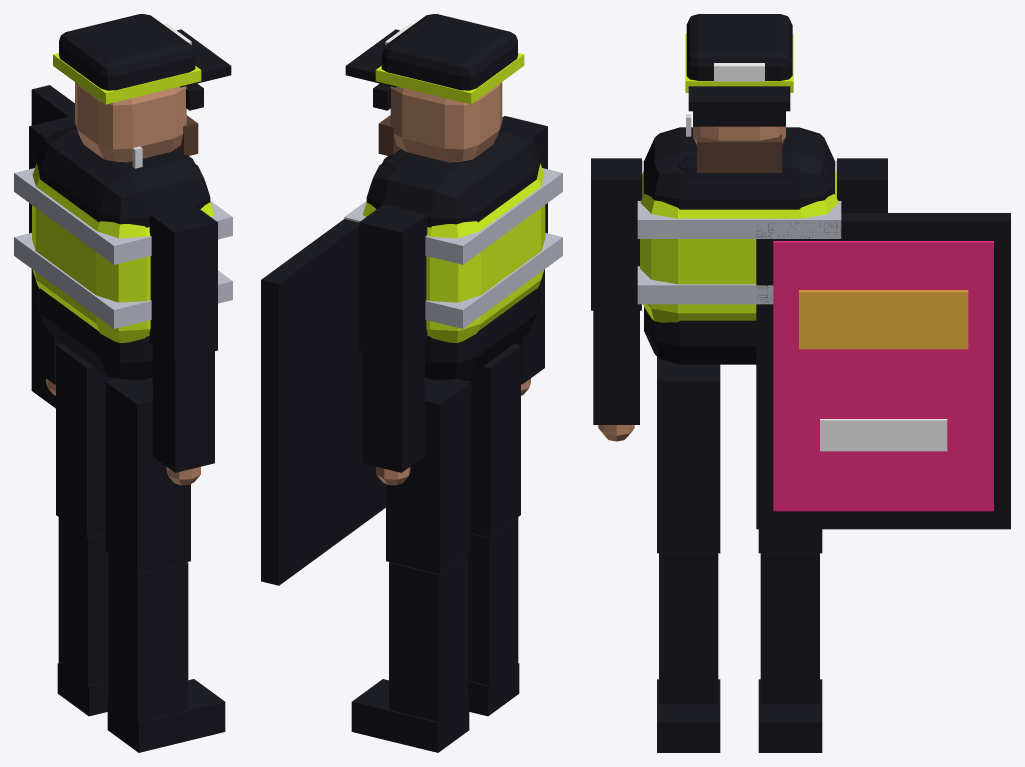
Rendered from agent_kleber_bouclier.glb.
3 renders of one model, left to right at view 1: azimuth 30°, elevation 25°; view 2: azimuth 150°, elevation 25°; view 3: azimuth 270°, elevation 25°, orthographic.
Visible parts, largest first — view 1: p_rbox.2275, p_box.8722, p_box.8723, p_box.8736, p_box.8725, p_rbox.2276, p_box.8726, p_rbox.2278, p_box.8737, p_rbox.2277, p_box.8724, p_box.8729 (+10 smaller); view 2: p_box.8740, p_rbox.2275, p_box.8725, p_box.8726, p_box.8738, p_box.8722, p_rbox.2276, p_box.8723, p_rbox.2278, p_box.8739, p_rbox.2277, p_box.8727 (+8 smaller); view 3: p_box.8741, p_box.8740, p_rbox.2275, p_box.8722, p_box.8742, p_rbox.2276, p_box.8726, p_box.8723, p_box.8736, p_rbox.2278, p_box.8737, p_box.8729 (+13 smaller).
Boxes of the visible parts, box(x1,y1,x2,y2) form: p_rbox.2275: box(36, 126, 210, 380); p_box.8722: box(106, 377, 190, 574); p_box.8723: box(108, 554, 188, 732); p_box.8736: box(149, 204, 217, 360); p_box.8725: box(56, 343, 117, 537); p_rbox.2276: box(32, 164, 214, 342); p_box.8726: box(58, 517, 108, 695); p_rbox.2278: box(59, 14, 195, 90); p_box.8737: box(152, 345, 214, 472); p_rbox.2277: box(75, 82, 186, 162); p_box.8724: box(107, 679, 225, 752); p_box.8729: box(14, 168, 232, 264); p_box.8740: box(261, 219, 385, 585); p_rbox.2275: box(366, 126, 540, 380); p_box.8725: box(386, 378, 471, 574); p_box.8726: box(389, 554, 468, 732); p_box.8738: box(359, 204, 427, 360); p_box.8722: box(459, 343, 520, 537); p_rbox.2276: box(362, 163, 545, 342); p_box.8723: box(468, 517, 518, 695); p_rbox.2278: box(381, 14, 517, 90); p_box.8739: box(362, 345, 424, 472); p_rbox.2277: box(390, 82, 502, 162); p_box.8727: box(351, 679, 469, 752); p_box.8741: box(773, 241, 993, 511); p_box.8740: box(756, 213, 1010, 529); p_rbox.2275: box(644, 127, 834, 364); p_box.8722: box(657, 357, 720, 553); p_box.8742: box(799, 290, 968, 349); p_rbox.2276: box(640, 171, 838, 322); p_box.8726: box(760, 553, 819, 704); p_box.8723: box(659, 553, 718, 704); p_box.8736: box(591, 158, 641, 310); p_rbox.2278: box(686, 14, 792, 80); p_box.8737: box(593, 310, 639, 424); p_box.8729: box(637, 160, 841, 238).
Bounding box in the file's own units: 0.395 × 1.8 × 0.99.
